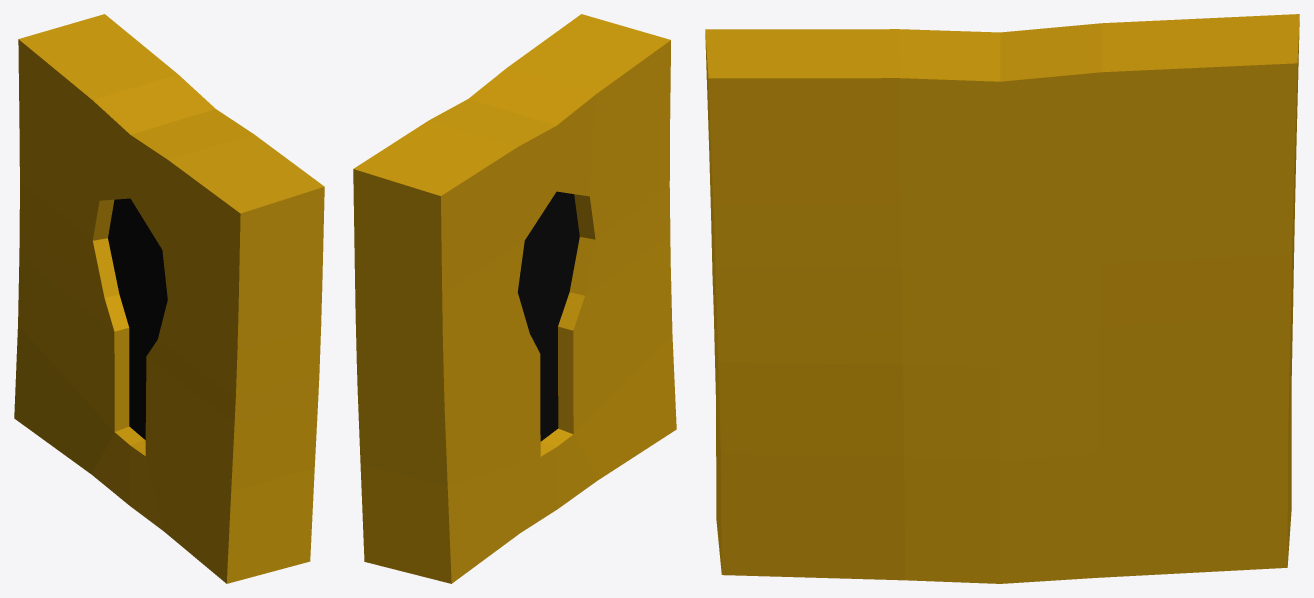
Rendered from Fechadura.fbx.
3 renders of one model, left to right at view 1: azimuth 30°, elevation 25°; view 2: azimuth 150°, elevation 25°; view 3: azimuth 270°, elevation 25°, orthographic. The views are drawn at different scales.
Parts seen in each view (by area): view 1: Cube.001; view 2: Cube.001; view 3: Cube.001.
Part boxes in pixels (box(x1,y1,x2,y2)): Cube.001: box(14, 14, 324, 583); Cube.001: box(353, 14, 676, 583); Cube.001: box(705, 14, 1299, 583).
Size of the model in its own units: 11.5 by 44.88 by 46.41.
